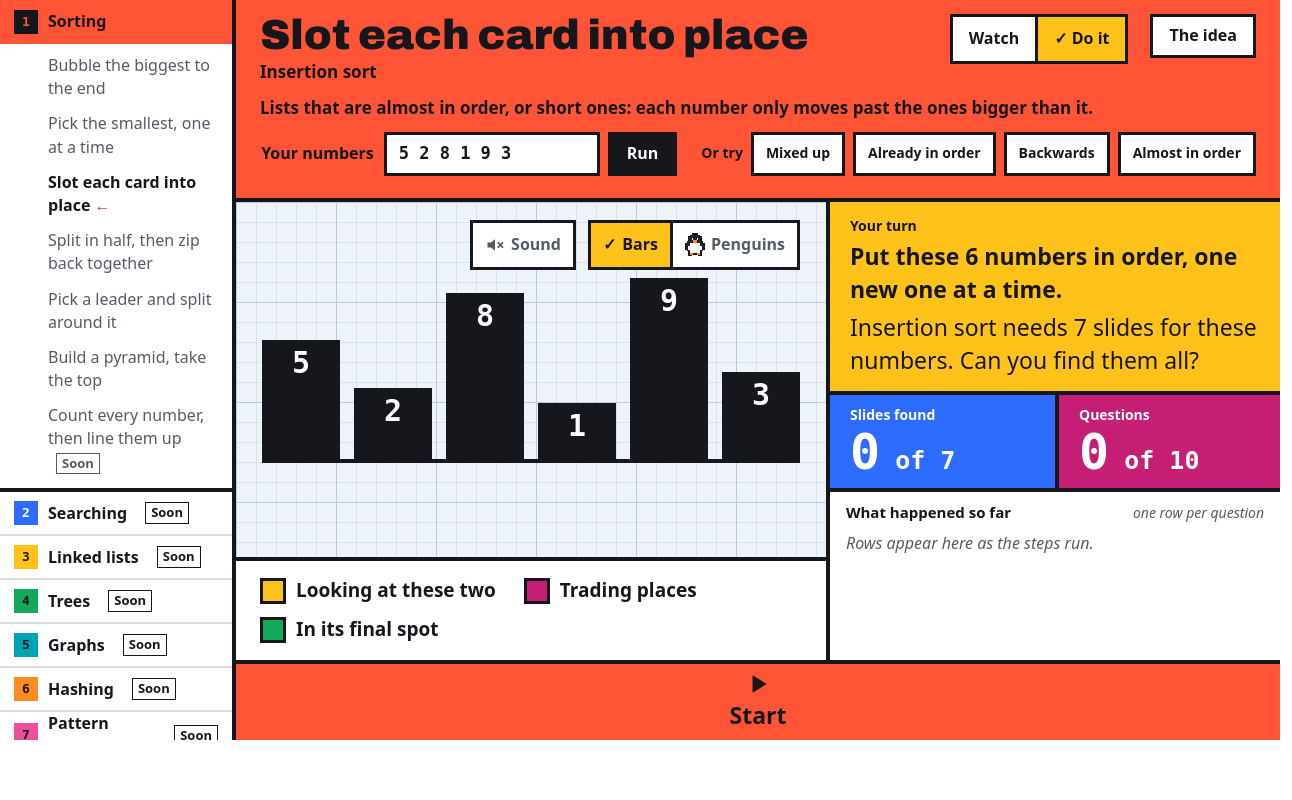
it: insertion sort: Do it › Explorer: asks at each comparison, never when a round starts or at the front
The image size is (1292, 800).
Click the button "Start": {"x": 758, "y": 702} left=236, top=664, right=1280, bottom=740
Wait 4000 ms
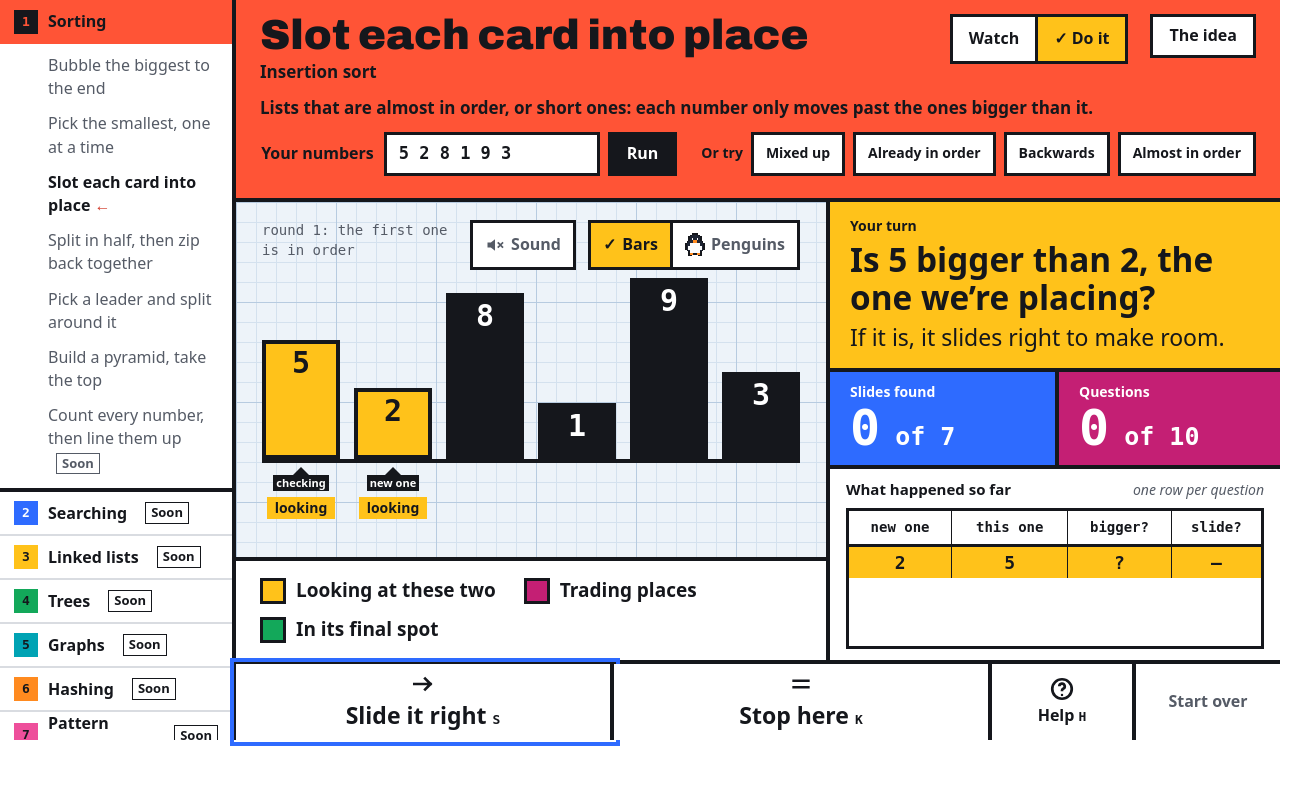
Check: the text with class "do-it-question" reads "Is 5 bigger than 2, the one we’re placing?", box left=850, top=236, right=1213, bottom=320
Check: the element with class "do-it-panel" shows "If it is, it slides right to make room.", box left=850, top=321, right=1225, bottom=353
Type keys "s"
Wait 6000 ms
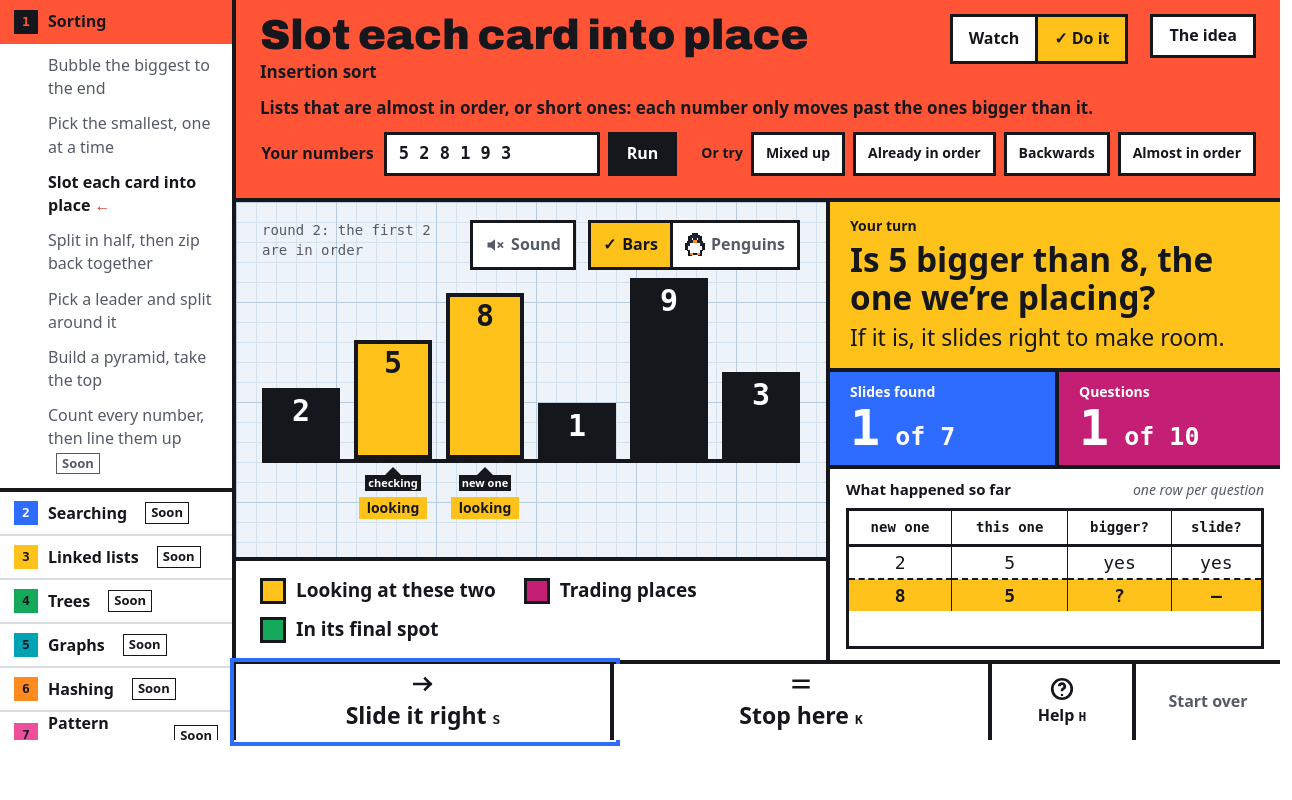
Check: the text with class "do-it-question" reads "Is 5 bigger than 8, the one we’re placing?", box left=850, top=236, right=1213, bottom=320
Type keys "k"
Wait 6000 ms
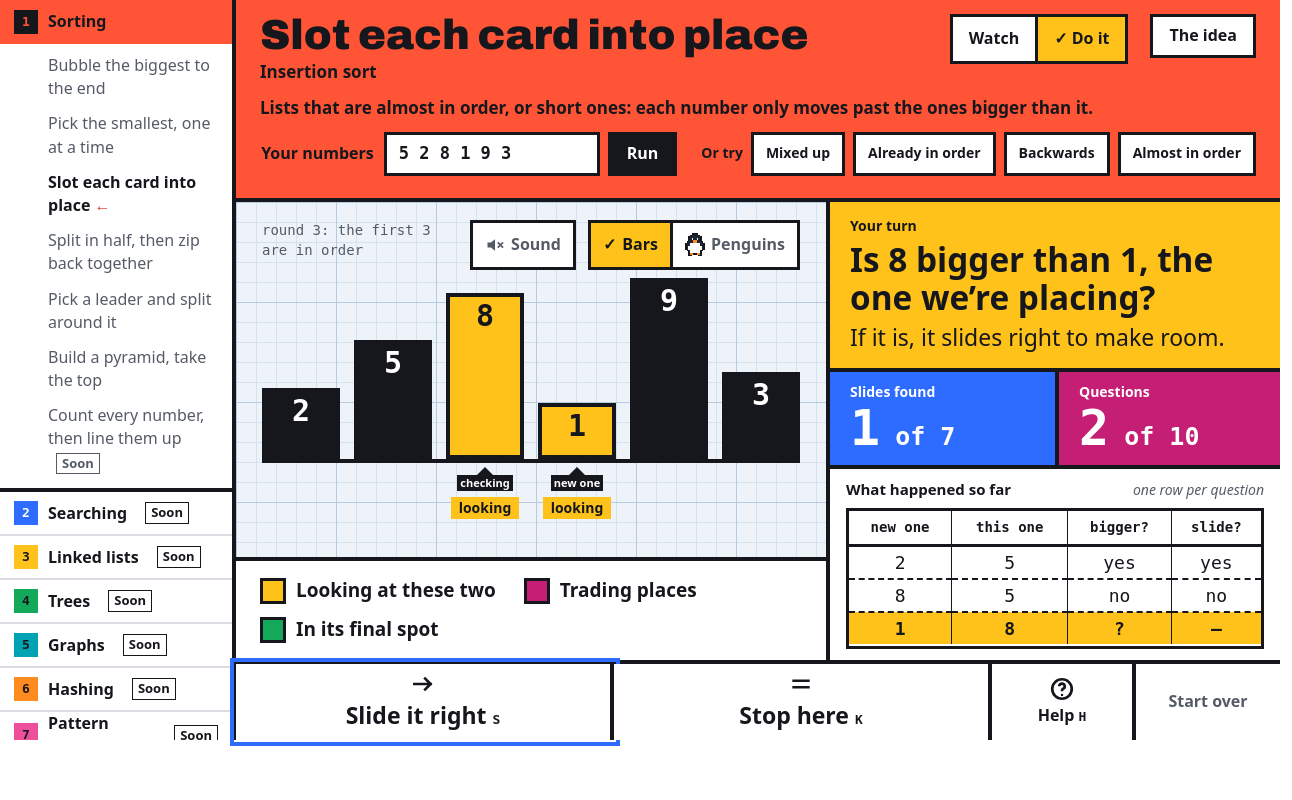
Check: the text with class "do-it-question" reads "Is 8 bigger than 1, the one we’re placing?", box left=850, top=236, right=1213, bottom=320
